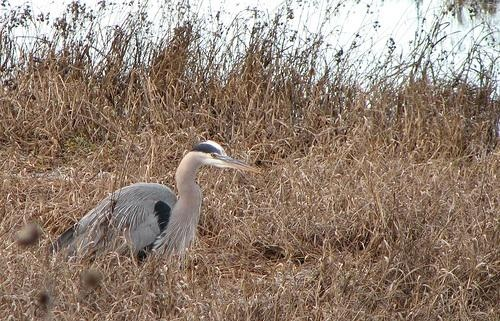bird: (46, 139, 259, 260)
